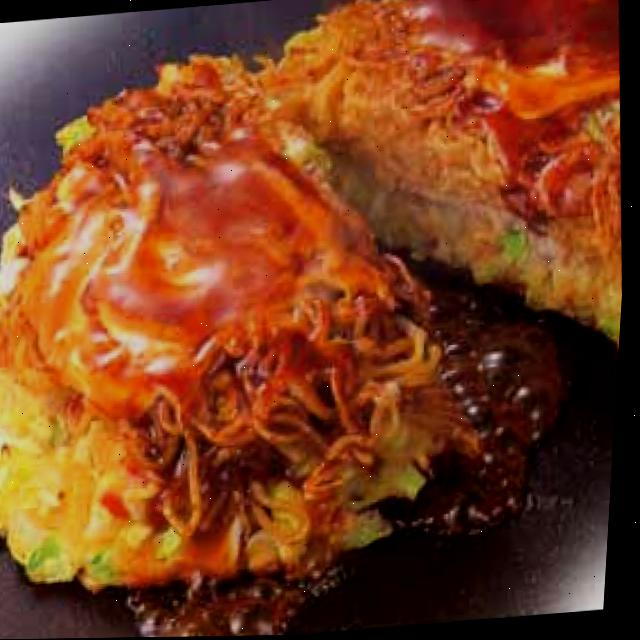蛋糕甜品: (0, 0, 640, 605)
